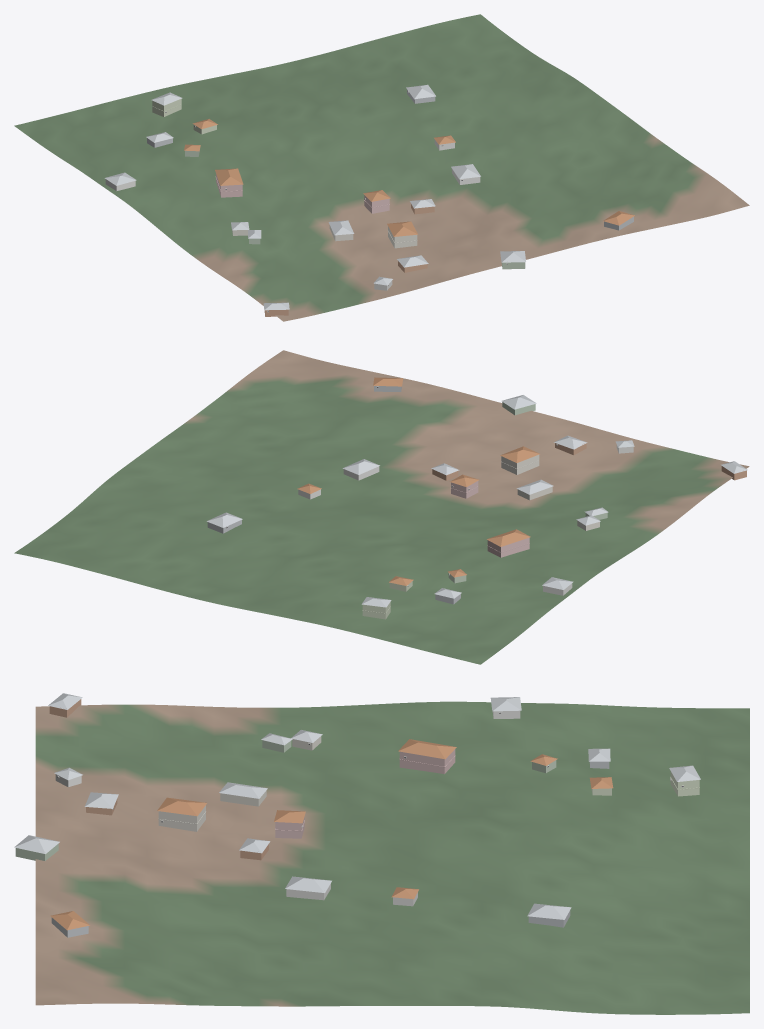
3 views of the same model, one above another, from view 1: azimuth 30°, elevation 25°; view 2: azimuth 150°, elevation 25°; view 3: azimuth 270°, elevation 25° (orthographic). The views are drawn at different scales.
Visible parts, largest first — view 1: Terrain-col, Buildings-col; view 2: Terrain-col, Buildings-col; view 3: Terrain-col, Buildings-col.
Boxes of the visible parts, box(x1,y1,x2,y2) form: Terrain-col: box(14, 14, 749, 321); Buildings-col: box(104, 84, 634, 316); Terrain-col: box(14, 350, 749, 664); Buildings-col: box(206, 377, 747, 619); Terrain-col: box(35, 701, 749, 1014); Buildings-col: box(14, 693, 700, 937).
Bounding box in the file's own units: 261 × 11.72 × 264.
